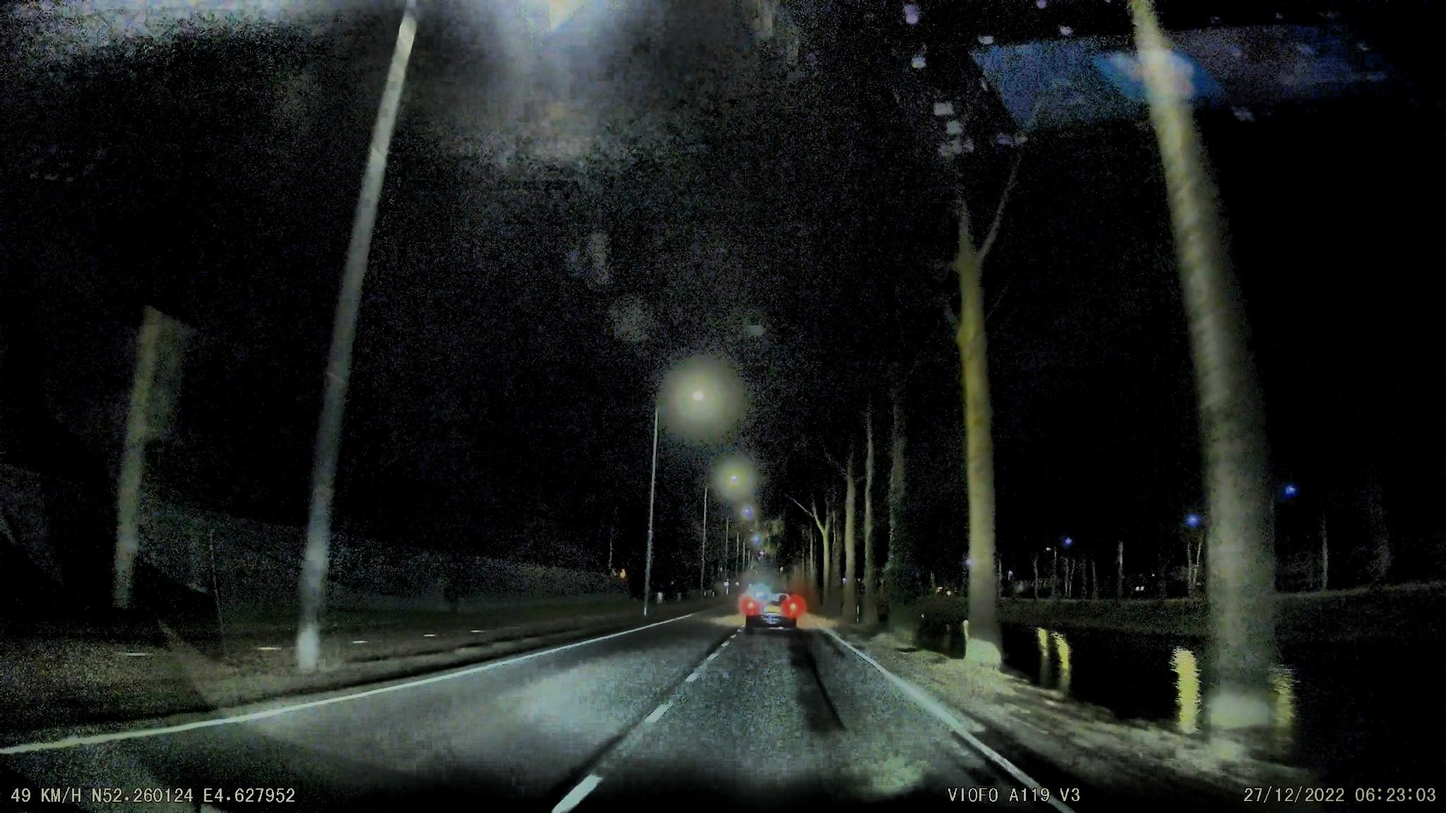Roads: (0, 620, 1069, 813)
